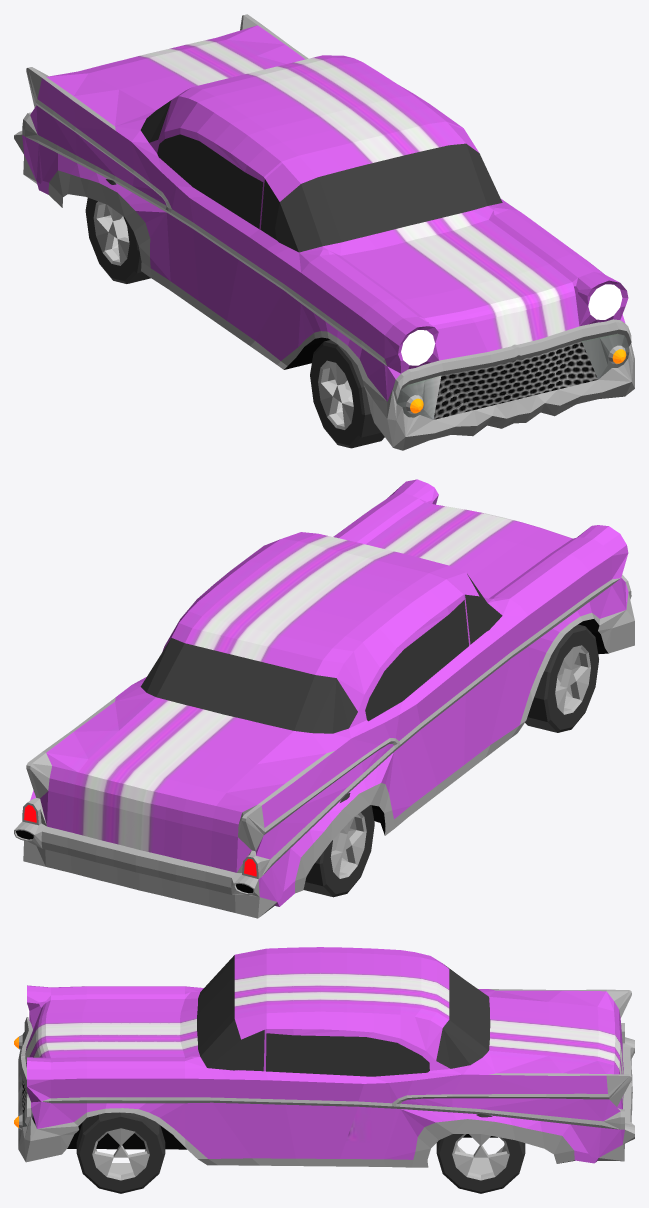
File: pinkinator_rework.glb
The picture shows the model from 3 angles, top to bottom: view 1: azimuth 30°, elevation 25°; view 2: azimuth 150°, elevation 25°; view 3: azimuth 270°, elevation 25°; orthographic projection. The views are drawn at different scales.
Visible parts, largest first — view 1: Cube, Circle.002, Circle.003; view 2: Cube, Circle.002, Circle.003; view 3: Cube, Circle, Circle.001.
Boxes of the visible parts, x1=… form: Cube: x1=14, y1=14, x2=634, y2=450; Circle.002: x1=310, y1=340, x2=384, y2=448; Circle.003: x1=85, y1=179, x2=150, y2=283; Cube: x1=14, y1=479, x2=634, y2=918; Circle.002: x1=525, y1=624, x2=598, y2=732; Circle.003: x1=303, y1=793, x2=374, y2=897; Cube: x1=14, y1=947, x2=634, y2=1167; Circle: x1=76, y1=1112, x2=165, y2=1193; Circle.001: x1=436, y1=1113, x2=525, y2=1193.
Bounding box in the file's own units: 1.72 × 1.41 × 4.66.
Materials: 9 (1 with a texture image).
